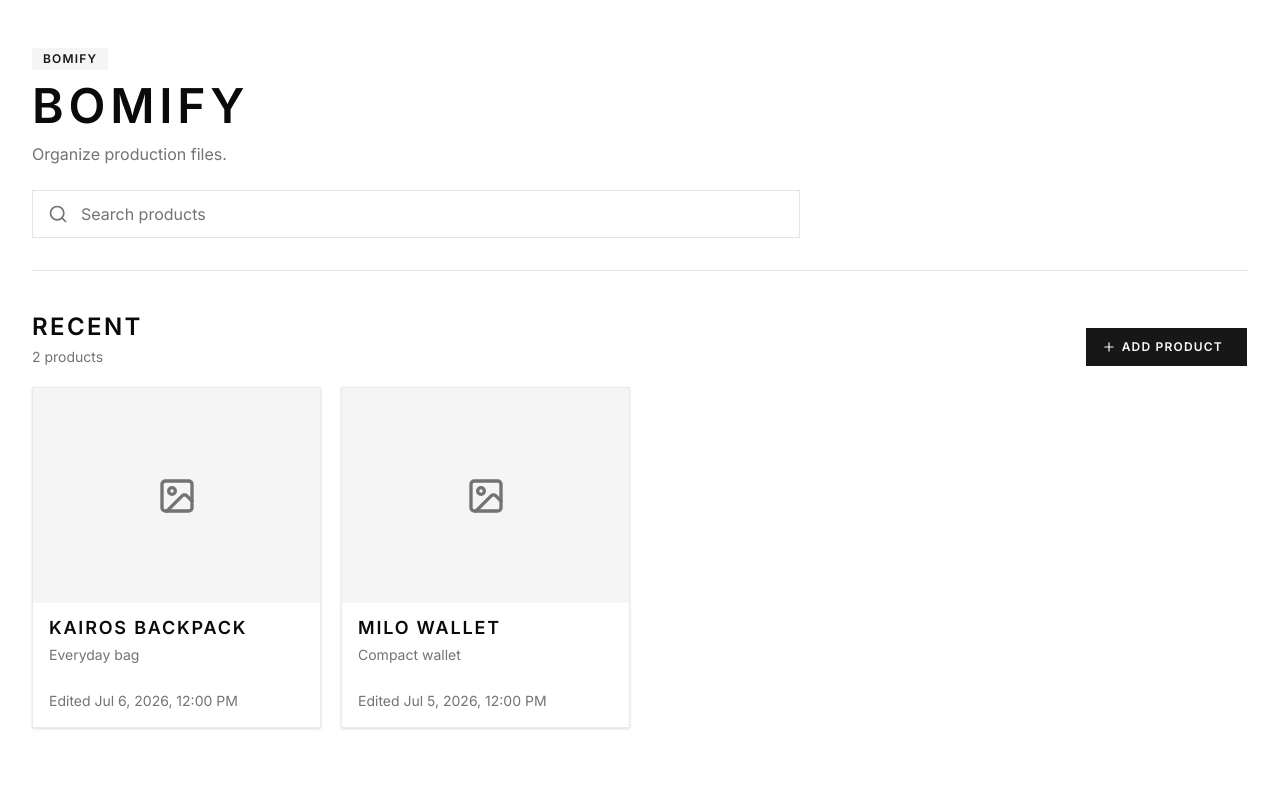
Test: ProductsOverview › renders product cards and filters them by search text
Expected: the link "Kairos Backpack" is shown, [49, 619, 247, 637]
Expected: the link "Milo Wallet" is shown, [358, 619, 501, 637]
Type "wallet" into the field labelled "Search products".
click(416, 214); type("wallet")  # box [32, 190, 800, 238]
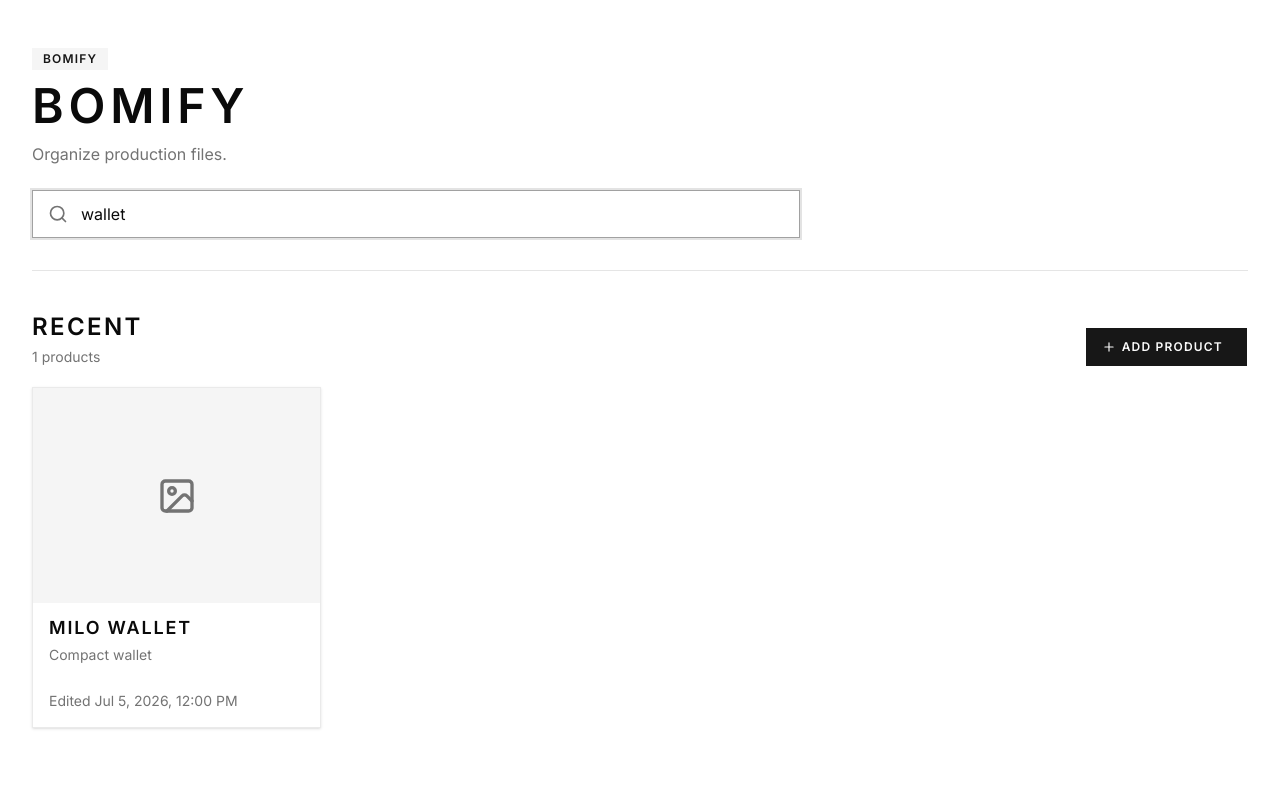
Expected: the link "Milo Wallet" is shown, [49, 619, 192, 637]
Now the link "Kairos Backpack" is gone
